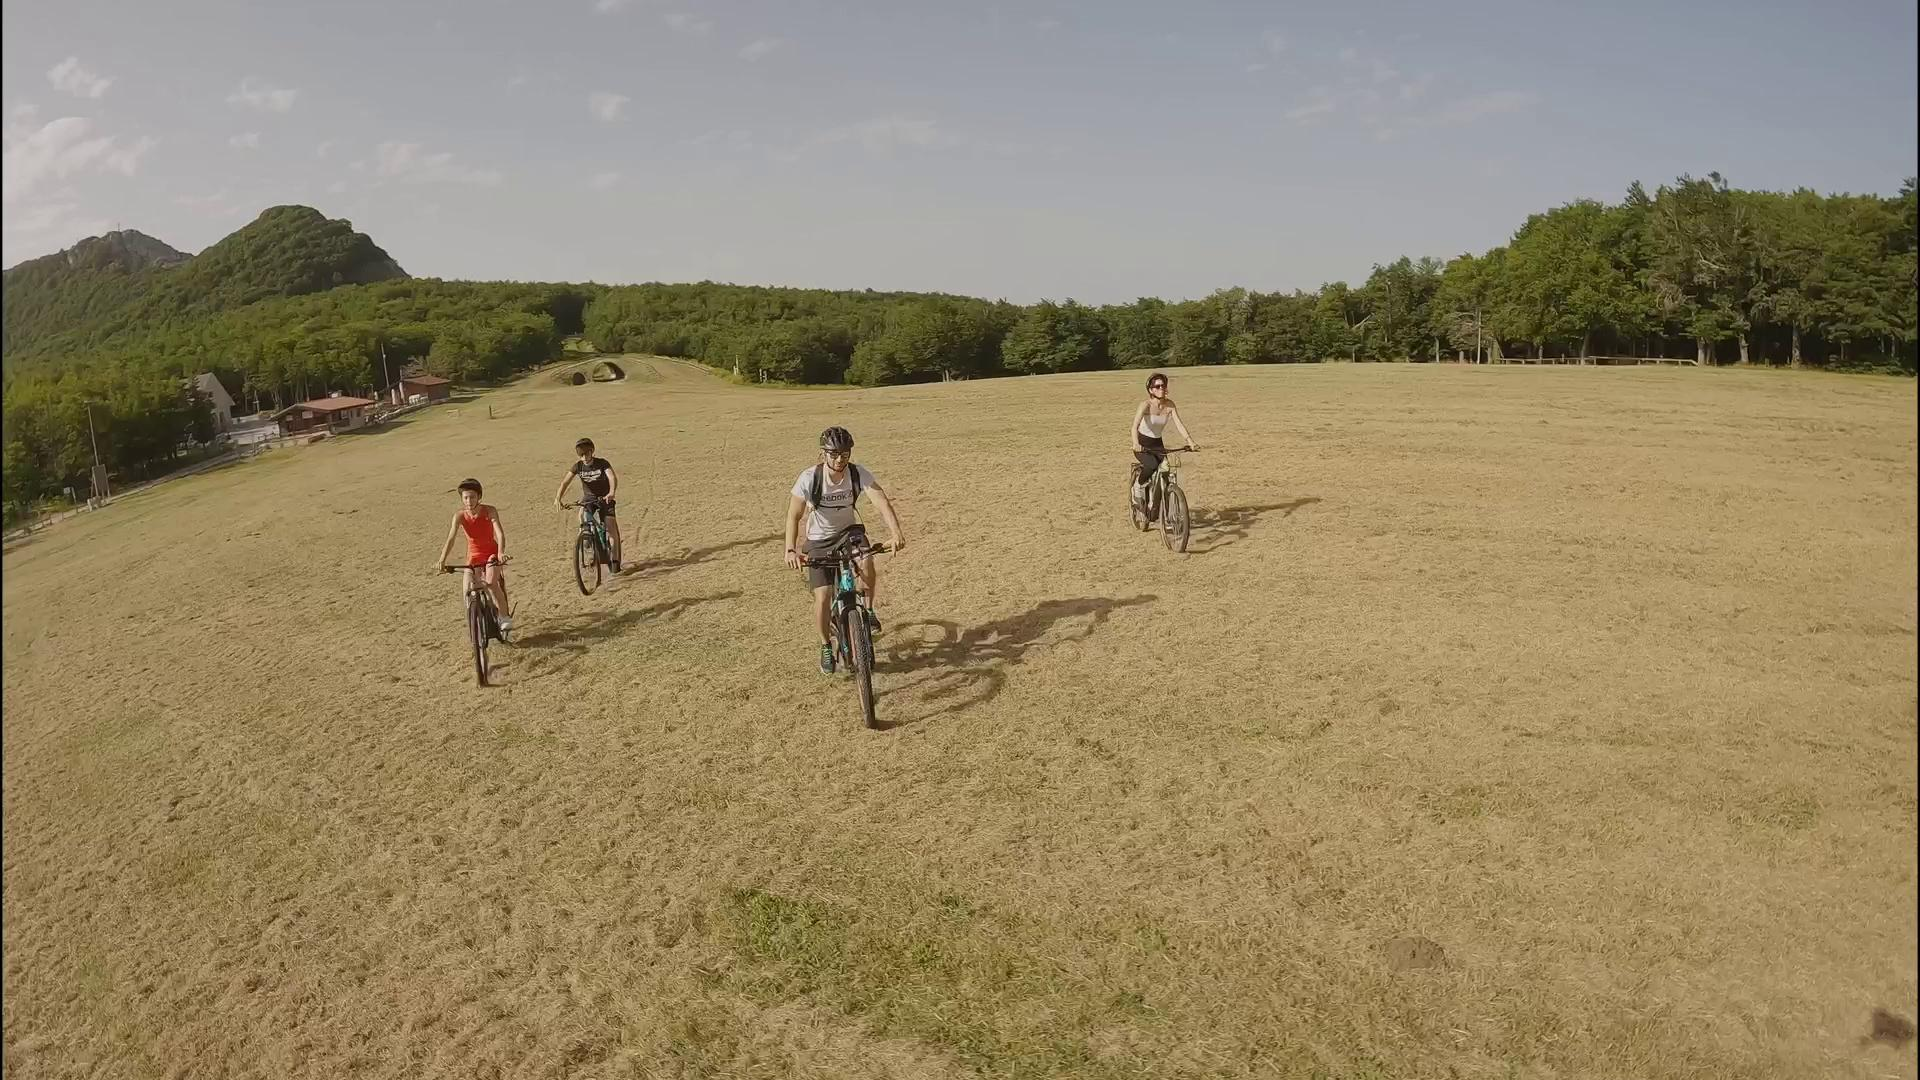bicycle: (786, 533, 906, 728), (433, 555, 520, 690), (1126, 440, 1204, 555), (554, 498, 621, 597)
horse: (786, 423, 910, 678), (433, 473, 517, 633), (1127, 371, 1197, 525), (553, 433, 622, 571)
